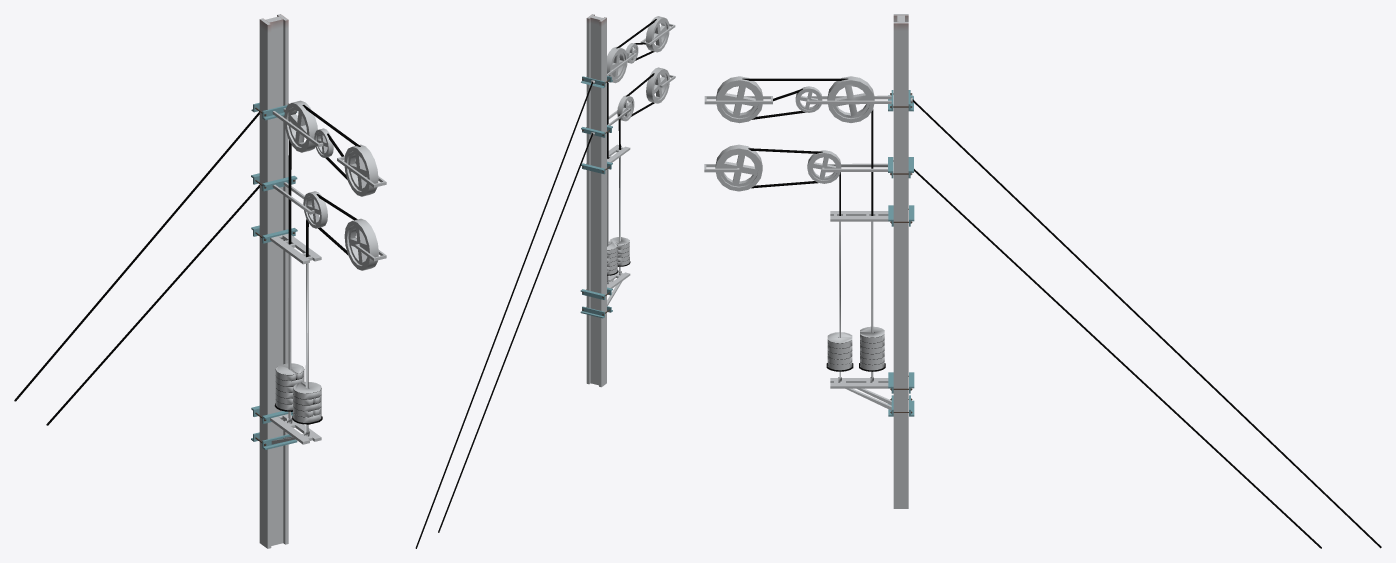
File: compensator_pro_0.3.obj
3 renders of one model, left to right at view 1: azimuth 30°, elevation 25°; view 2: azimuth 150°, elevation 25°; view 3: azimuth 270°, elevation 25°, orthographic. The views are drawn at different scales.
Parts seen in each view (by area): view 1: catenary_anti, catenary_anti.040, catenary_anti.039; view 2: catenary_anti, catenary_anti.040, catenary_anti.039; view 3: catenary_anti.040, catenary_anti, catenary_anti.039.
Part boxes in pixels (<box>): catenary_anti: <box>259,14,288,548</box>; catenary_anti.040: <box>251,100,386,449</box>; catenary_anti.039: <box>14,111,259,425</box>; catenary_anti: <box>586,14,606,387</box>; catenary_anti.040: <box>416,16,675,548</box>; catenary_anti.039: <box>415,81,592,548</box>; catenary_anti.040: <box>704,76,914,416</box>; catenary_anti: <box>893,14,908,508</box>; catenary_anti.039: <box>912,99,1381,548</box>.
Bounding box in the file's own units: 0.5791 × 9.75 × 11.29.
3 materials, 3 textured.
